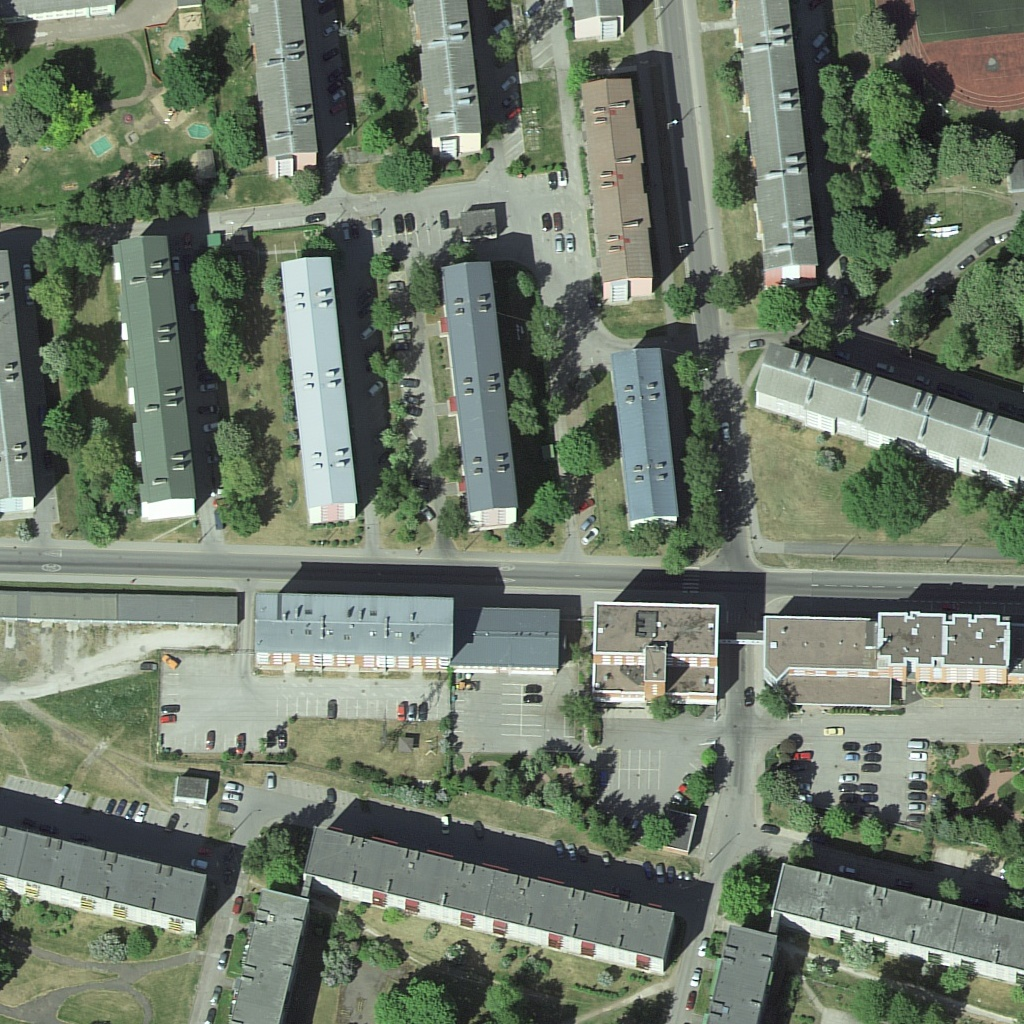building: (304, 825, 676, 972), (752, 345, 1024, 496), (767, 861, 1024, 988), (732, 1, 820, 284), (114, 233, 198, 522), (2, 828, 211, 935), (438, 261, 518, 532), (282, 253, 362, 523), (255, 590, 454, 672), (577, 78, 651, 298), (590, 602, 722, 711), (611, 345, 681, 531), (247, 1, 317, 171), (227, 883, 309, 1024), (411, 1, 483, 156), (880, 612, 1012, 691), (705, 919, 782, 1024), (455, 608, 565, 678), (762, 615, 876, 676)
